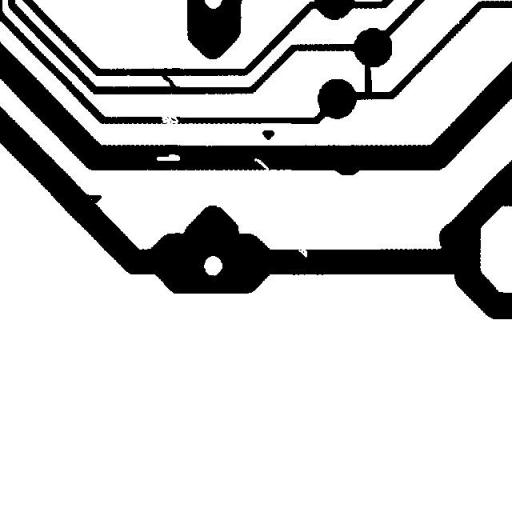copper: (254, 122, 282, 148)
mousebite: (246, 150, 276, 178), (290, 239, 314, 265)
open: (154, 106, 186, 134)
pin-hole: (149, 146, 187, 168)
short: (357, 55, 379, 102), (154, 66, 183, 96)
spur: (72, 186, 109, 210)
